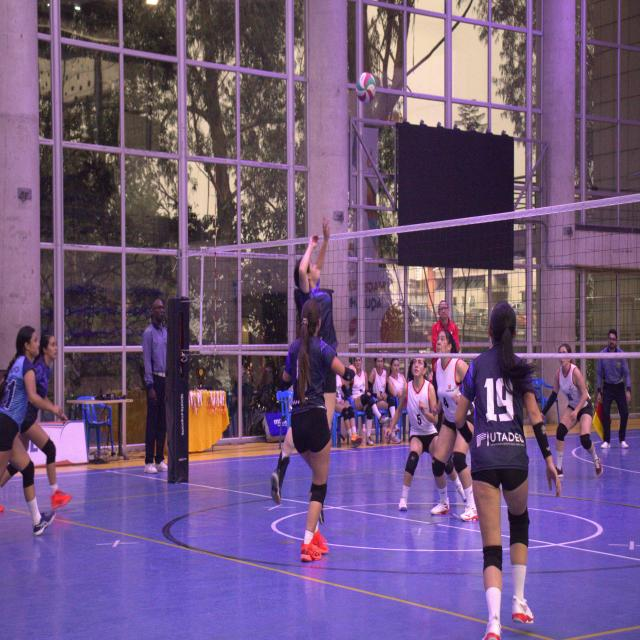volleyball: (355, 70, 377, 104)
